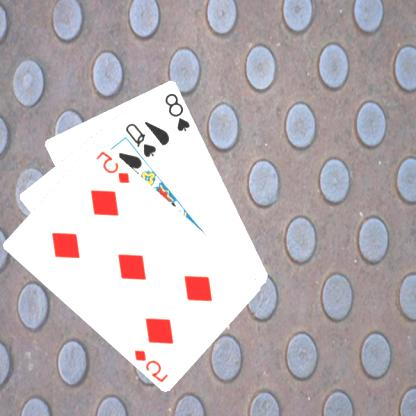5D: (132, 346, 172, 384), (94, 147, 133, 185)
8S: (163, 90, 194, 133)
QS: (124, 119, 160, 158)
